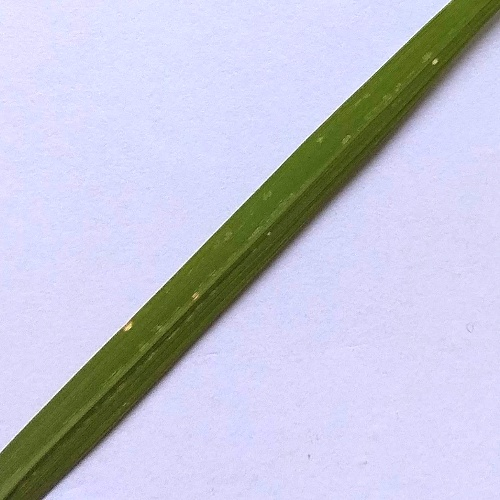Busuk Leher: (421, 47, 448, 75), (117, 311, 140, 334), (186, 290, 203, 305)
